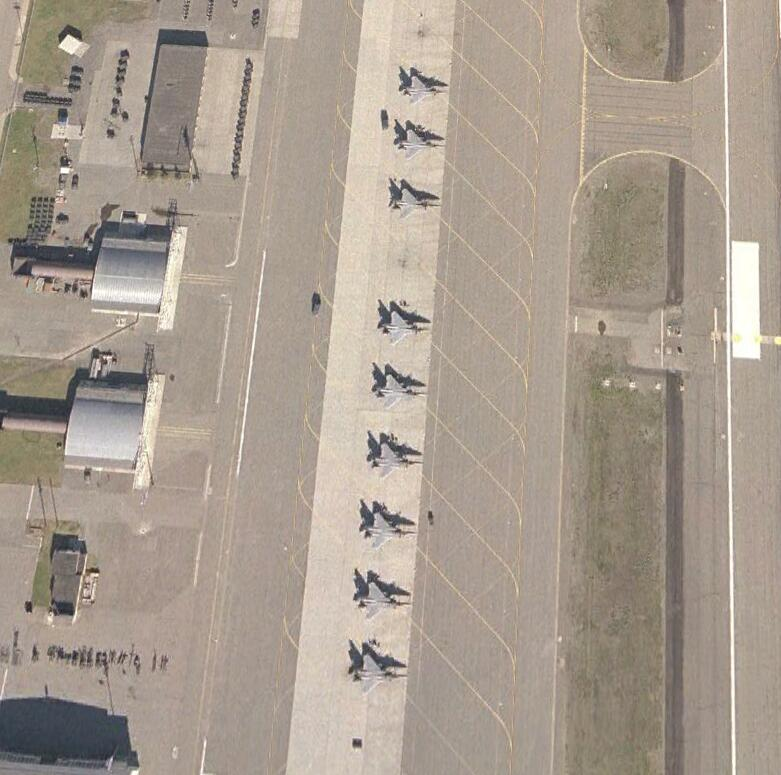A13: (355, 577, 413, 623), (358, 509, 420, 551), (367, 439, 425, 480), (349, 652, 407, 691), (380, 309, 432, 347), (387, 184, 442, 219), (374, 373, 426, 409), (396, 127, 448, 161), (401, 74, 449, 104)
